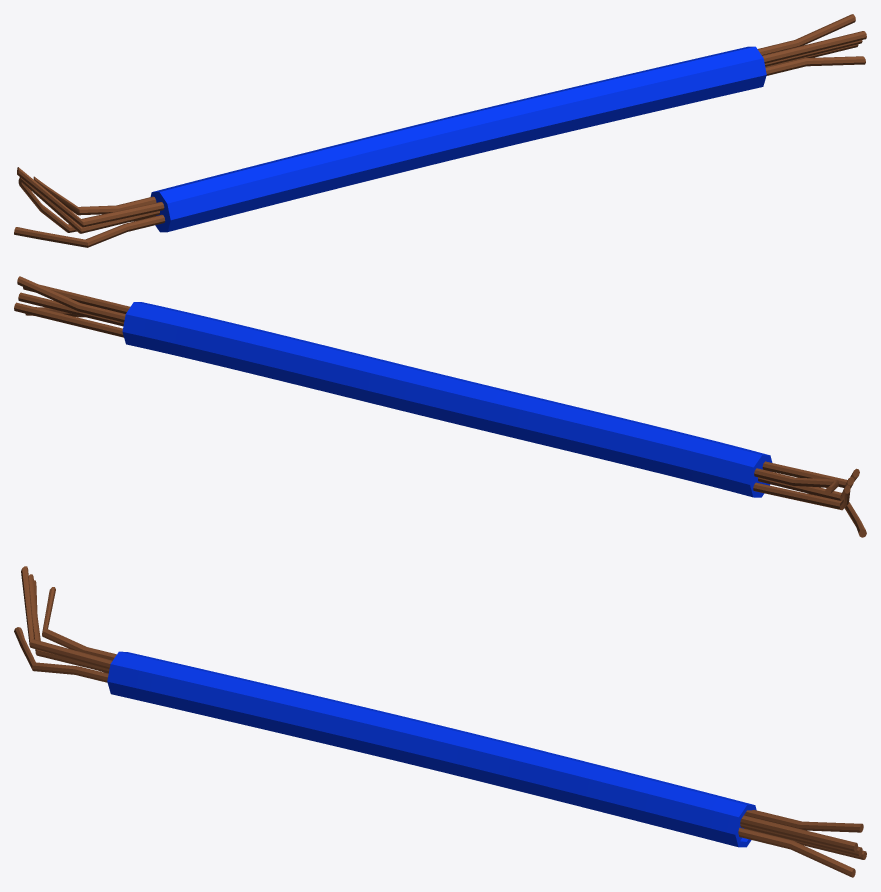
File: samcable1.fbx
3 views of the same model, one above another, from view 1: azimuth 30°, elevation 25°; view 2: azimuth 150°, elevation 25°; view 3: azimuth 330°, elevation 25° (orthographic). The views are drawn at different scales.
Visible parts, largest first — view 1: BlueCable; view 2: BlueCable; view 3: BlueCable.
Part boxes in pixels (bbox=[...]): BlueCable: bbox=[14, 14, 866, 247]; BlueCable: bbox=[14, 276, 866, 537]; BlueCable: bbox=[14, 566, 866, 877].
Bounding box in the file's own units: 22.45 × 1.95 × 2.09.
